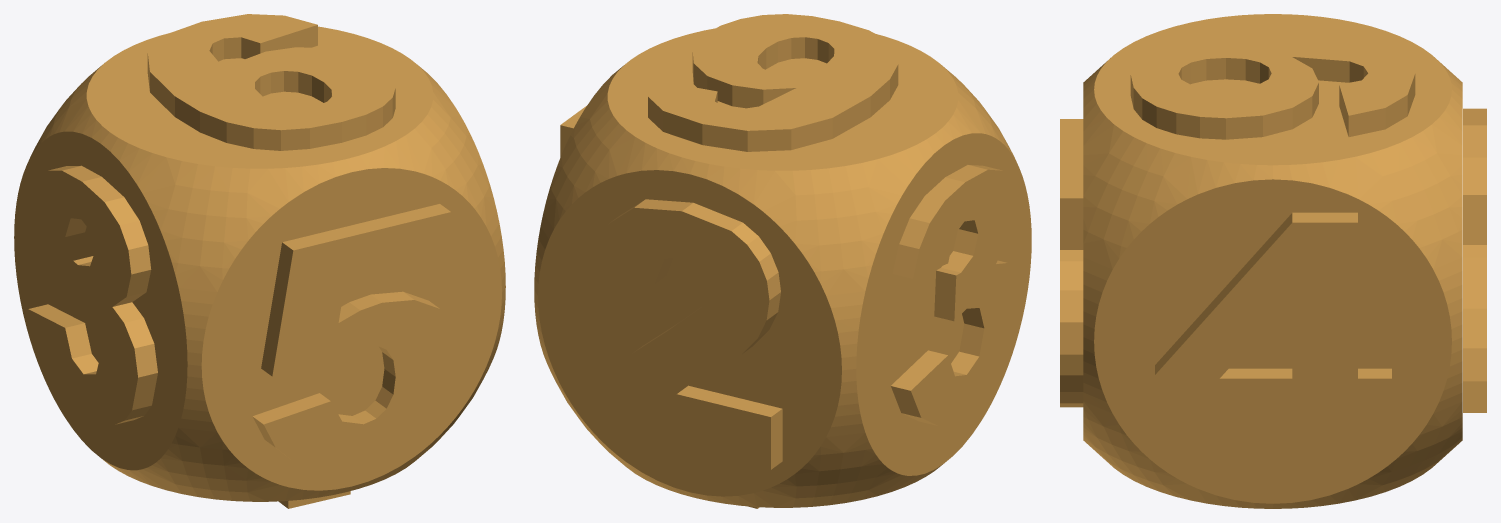
Rendered from TorieDie.glb.
3 views of the same model, side by side, from view 1: azimuth 30°, elevation 25°; view 2: azimuth 150°, elevation 25°; view 3: azimuth 270°, elevation 25° (orthographic). The views are drawn at different scales.
Parts seen in each view (by area): view 1: Mesh_Mesh_head_geo.001_lambert2SG.001; view 2: Mesh_Mesh_head_geo.001_lambert2SG.001; view 3: Mesh_Mesh_head_geo.001_lambert2SG.001.
Part boxes in pixels (box(x1,y1,x2,y2)): Mesh_Mesh_head_geo.001_lambert2SG.001: box(14, 14, 505, 508); Mesh_Mesh_head_geo.001_lambert2SG.001: box(534, 14, 1031, 508); Mesh_Mesh_head_geo.001_lambert2SG.001: box(1060, 14, 1486, 508).
Size of the model in its own units: 18 by 18 by 18.
